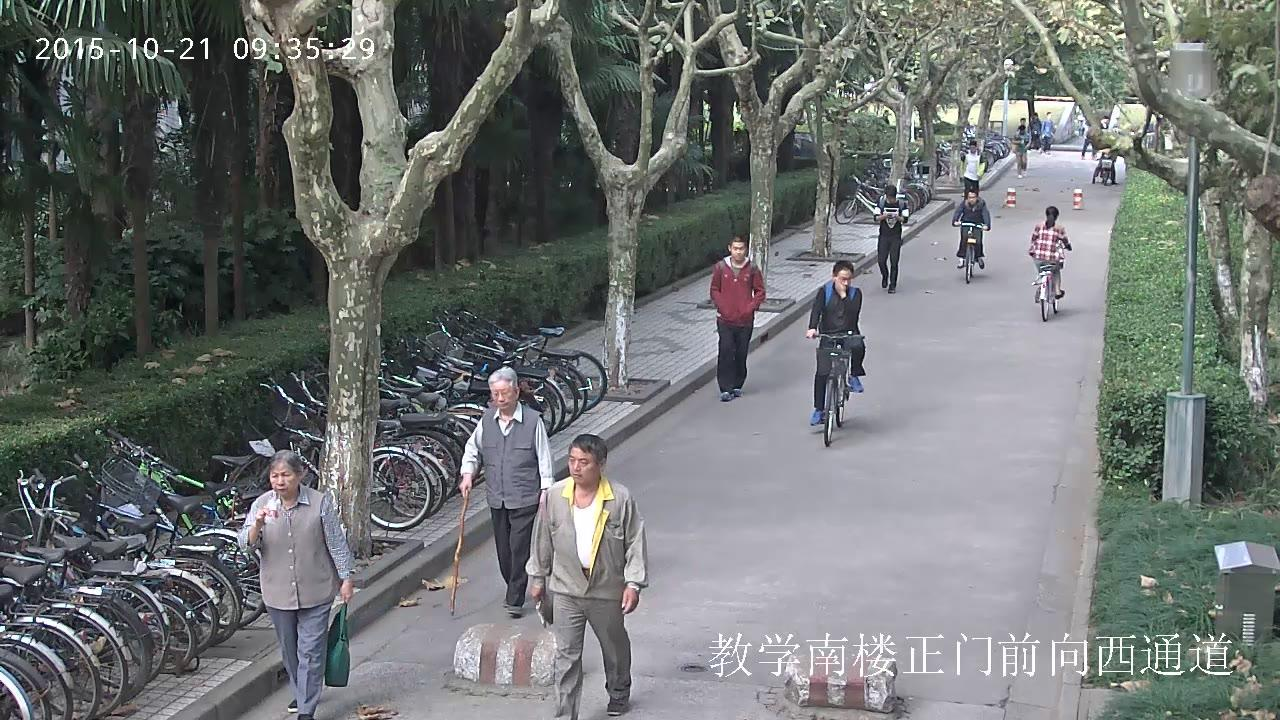person: (524, 433, 650, 720), (237, 450, 355, 720), (447, 368, 556, 618), (802, 259, 866, 446), (804, 259, 866, 426), (709, 236, 766, 401), (1028, 205, 1072, 321), (872, 185, 908, 294), (1029, 206, 1071, 299), (951, 187, 991, 283), (951, 187, 991, 269), (958, 142, 987, 198), (1089, 147, 1120, 185), (1090, 147, 1120, 185), (1012, 131, 1028, 178), (1041, 112, 1055, 152), (1028, 112, 1042, 151), (1081, 123, 1094, 160), (1015, 118, 1029, 131)
